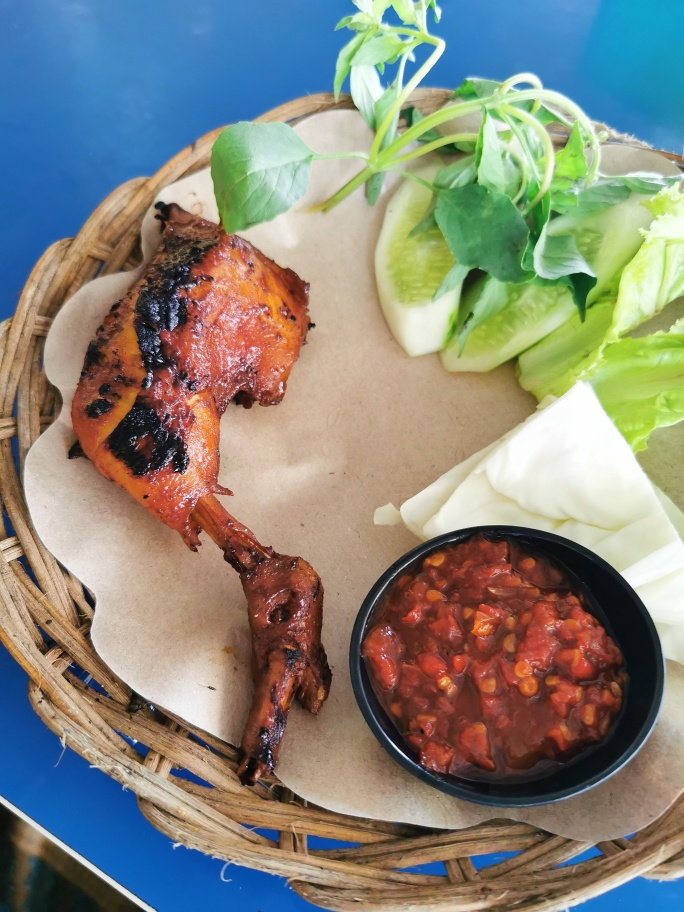ayam bakar: (57, 189, 365, 768)
